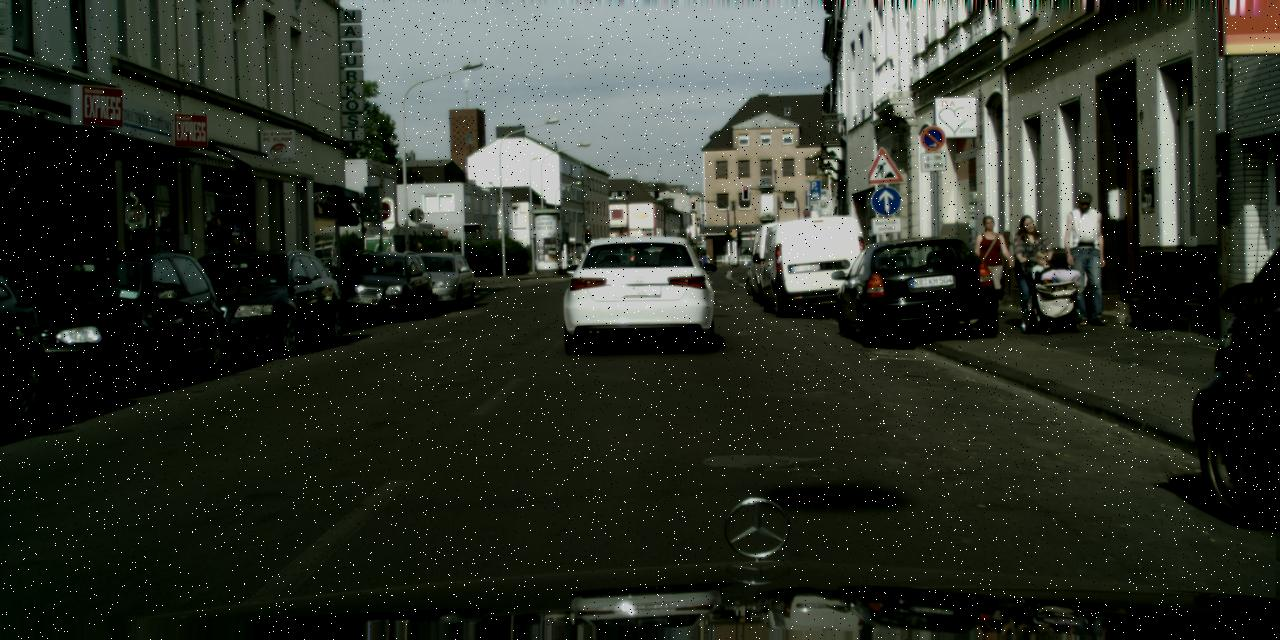ped: (1060, 192, 1114, 324), (1008, 214, 1054, 324), (968, 214, 1008, 312), (413, 242, 430, 284)
